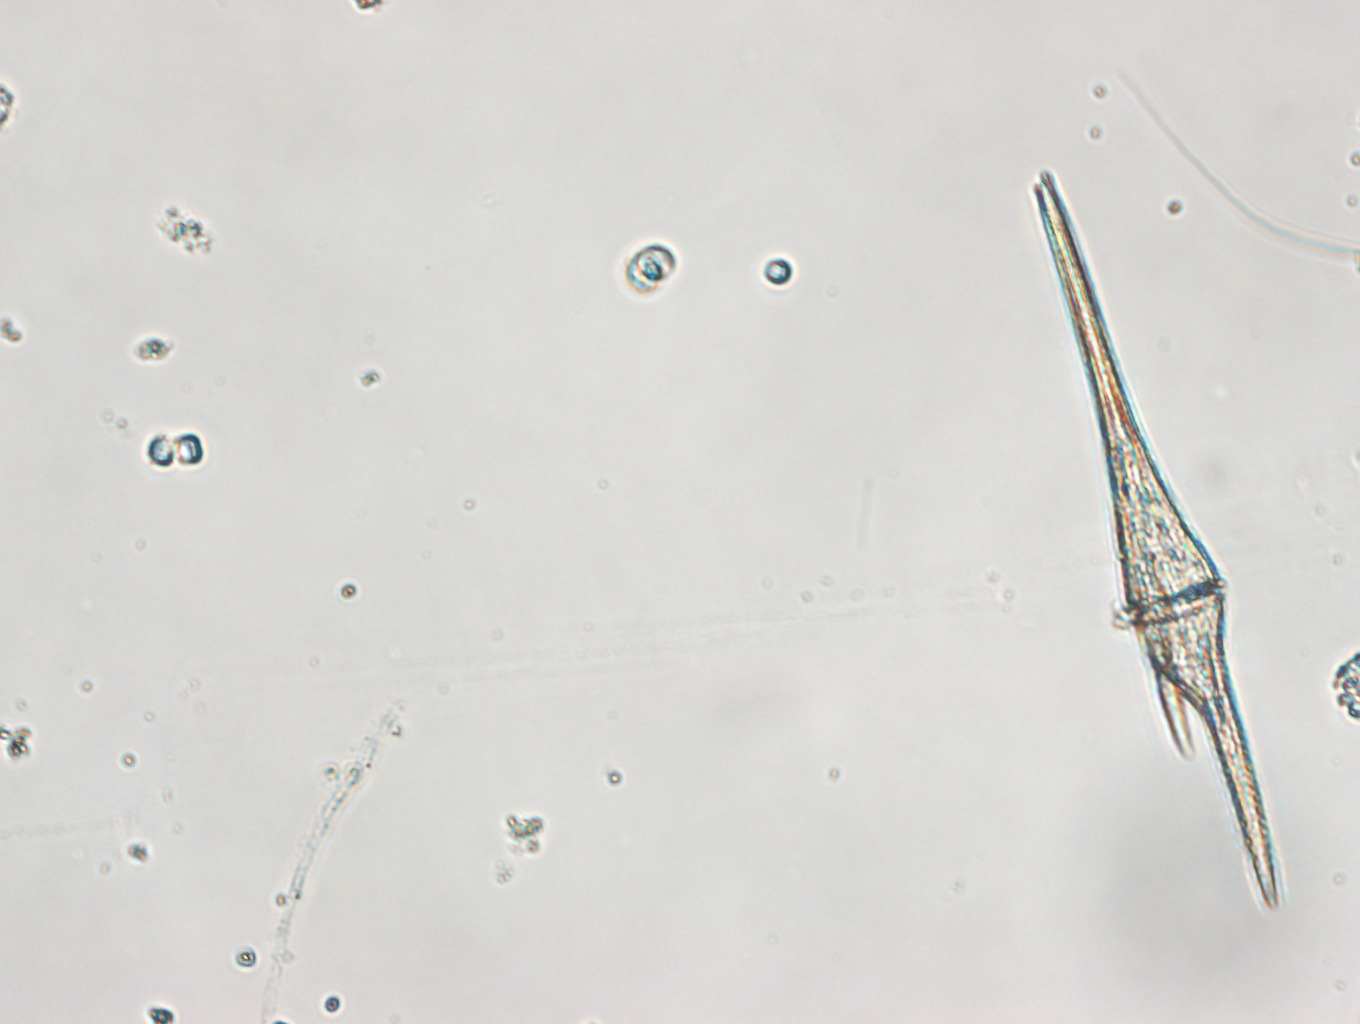ceratium furca: (1031, 154, 1300, 915)
